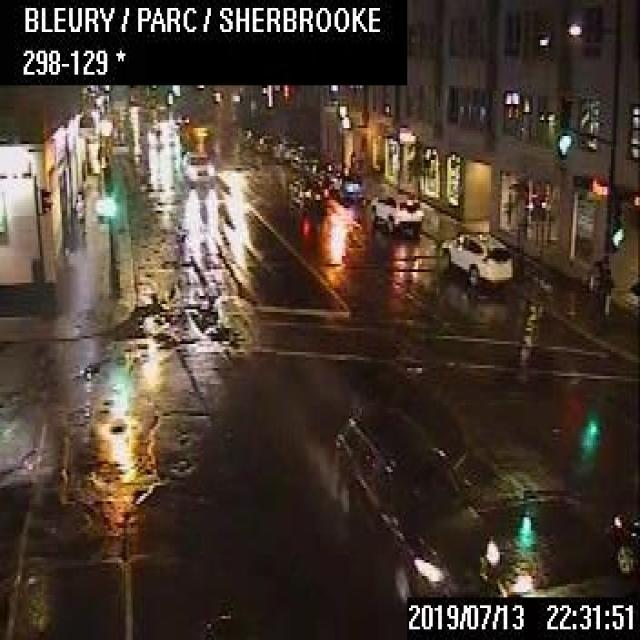vehicle: (329, 403, 496, 613), (436, 228, 511, 286), (607, 499, 638, 573), (368, 192, 422, 232), (288, 171, 327, 204), (182, 149, 213, 182), (337, 170, 363, 202)
